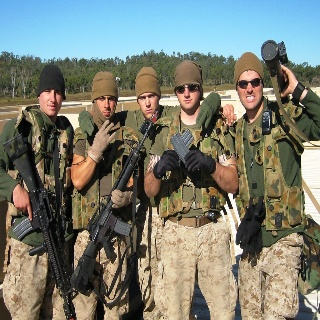rifle: (66, 121, 184, 297), (2, 132, 81, 320)
